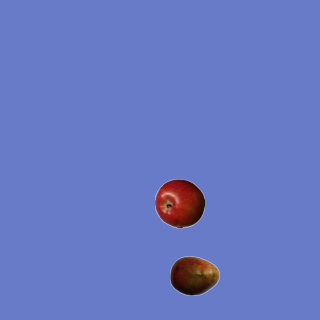Apple Braeburn: (154, 178, 204, 228)
Mango Red: (169, 250, 219, 300)
